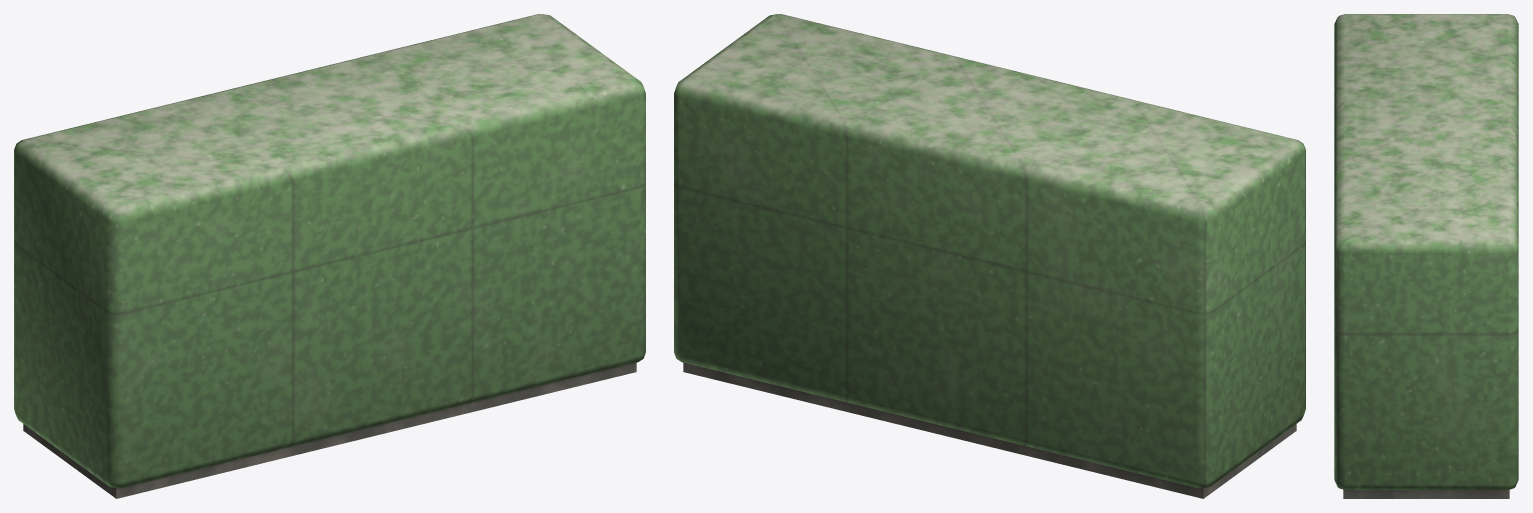
The model's file is hedge.fbx.
3 renders of one model, left to right at view 1: azimuth 30°, elevation 25°; view 2: azimuth 150°, elevation 25°; view 3: azimuth 270°, elevation 25°, orthographic. The views are drawn at different scales.
Visible parts, largest first — view 1: Body; view 2: Body; view 3: Body.
Part boxes in pixels (left/top/right/bottom): Body: left=14, top=14, right=645, bottom=498; Body: left=674, top=14, right=1305, bottom=498; Body: left=1334, top=14, right=1518, bottom=498.
Size of the model in its own units: 6 by 3.1 by 2.
Materials: 1 (1 with a texture image).
